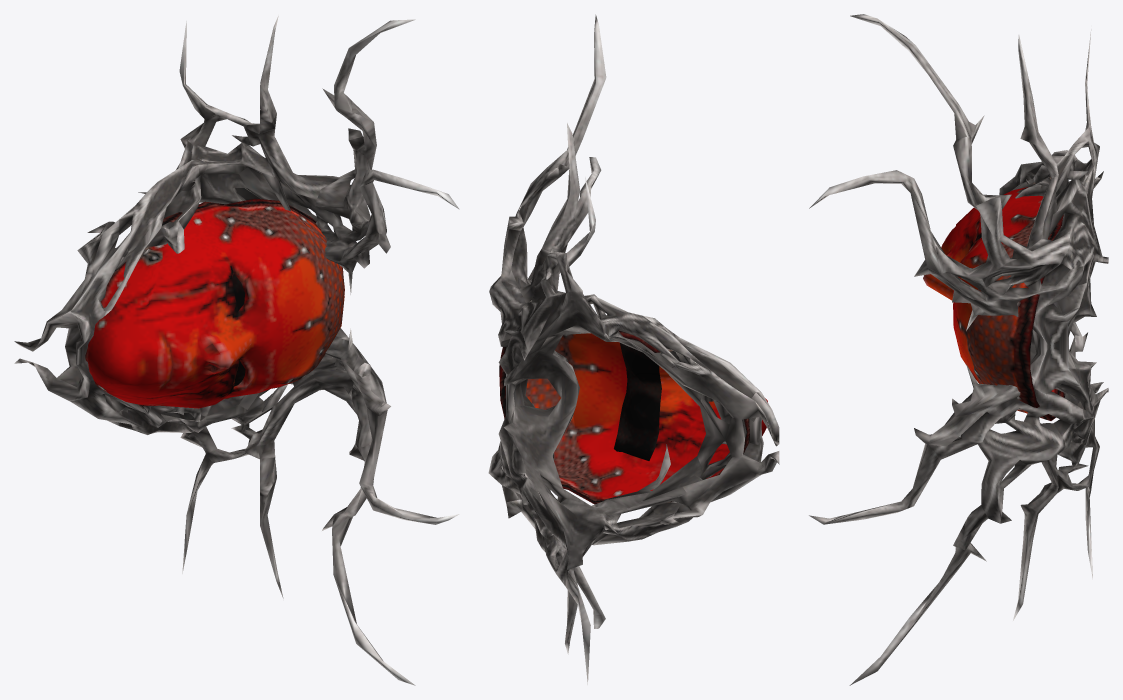
The model's file is M_SesterMask.fbx.
The picture shows the model from 3 angles, left to right: view 1: azimuth 30°, elevation 25°; view 2: azimuth 150°, elevation 25°; view 3: azimuth 270°, elevation 25°; orthographic projection. The views are drawn at different scales.
Parts seen in each view (by area): view 1: SesterMask; view 2: SesterMask; view 3: SesterMask.
Part boxes in pixels (box(x1,y1,x2,y2)): SesterMask: box(14, 15, 459, 685); SesterMask: box(488, 14, 779, 684); SesterMask: box(809, 14, 1108, 685).
Size of the model in its own units: 0.1992 by 0.3777 by 0.1535.
